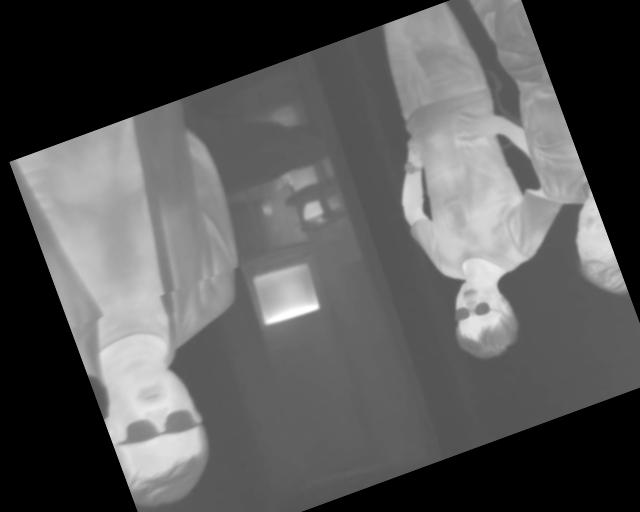face: (91, 352, 228, 512), (438, 267, 527, 368)
